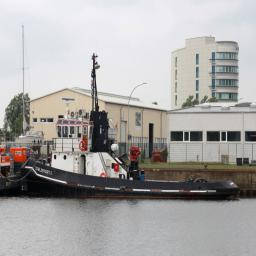tugboat: (17, 97, 243, 205)
